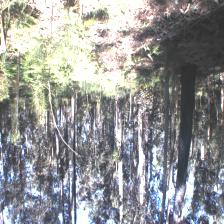trunktrack_idkeyframe: (177, 65, 197, 176), (164, 76, 169, 154)
